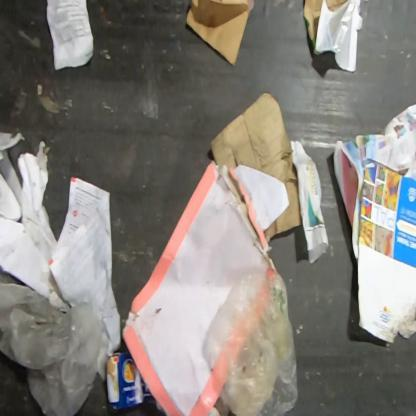cardboard: (121, 160, 291, 415), (209, 91, 303, 245), (356, 157, 415, 345), (186, 0, 256, 69), (303, 0, 365, 74), (106, 350, 156, 412)
soft_plastic: (0, 269, 102, 416), (202, 266, 301, 415)
